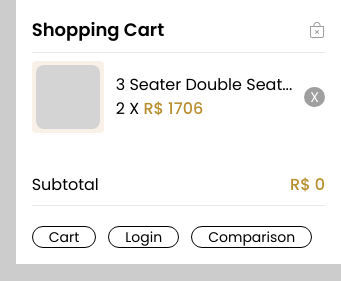
it: <HeaderModal /> › should remove item from cart
The image size is (341, 281).
Check: the text "3 Seater Double Seat..." is shown, box [116,73,292,97]
Click the text with test id "removeIcon" at [315, 97], box [304,87,325,107]
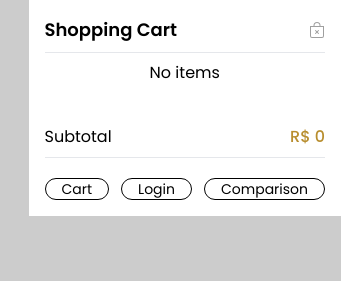
Check: the list item "No items" is shown, box [150,61,220,84]
